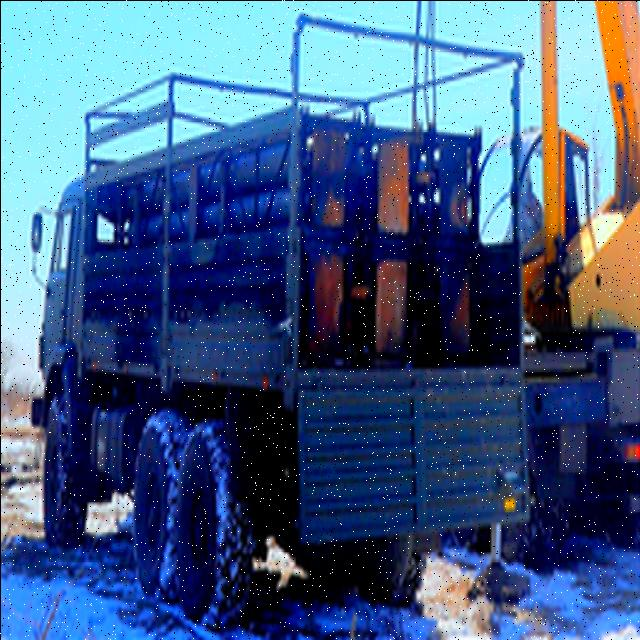TRUCK: (32, 25, 536, 631)
